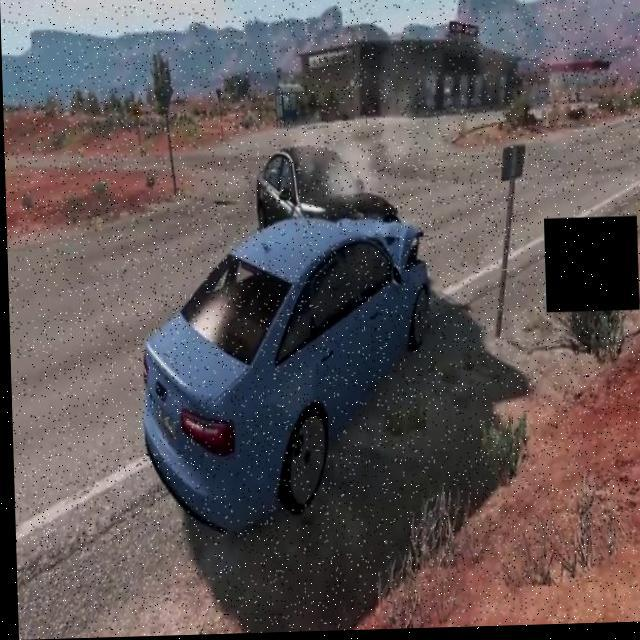multiple_accident: (103, 58, 640, 613)
